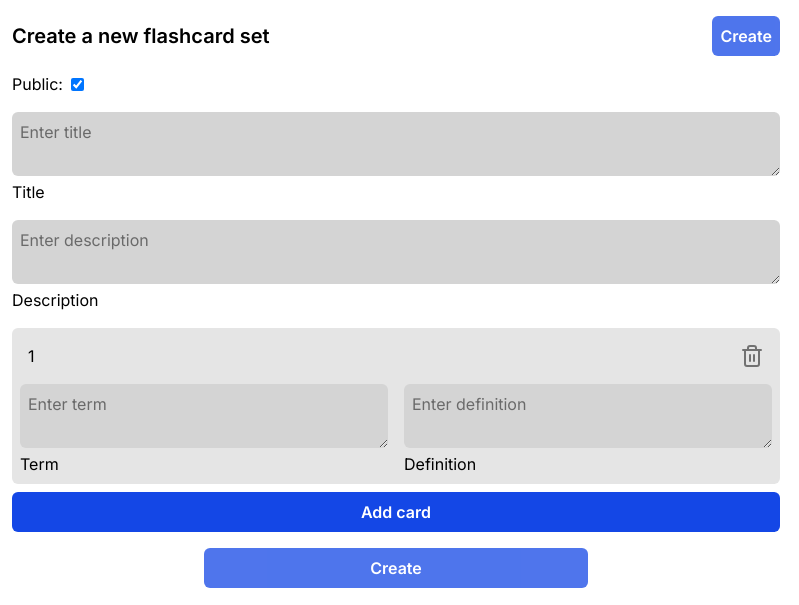
Test case: FlashcardSetForm › enables submit button only when all required fields are filled
Check: the button "Create" in the row of "Create a new flashcard set" is disabled, box x1=712 y1=16 x2=780 y2=56
Check: the 2nd button "Create" is disabled, box x1=204 y1=548 x2=588 y2=588
Type "Spaghetti" into the text box labelled "Title" at [396, 144], box x1=12 y1=112 x2=780 y2=176
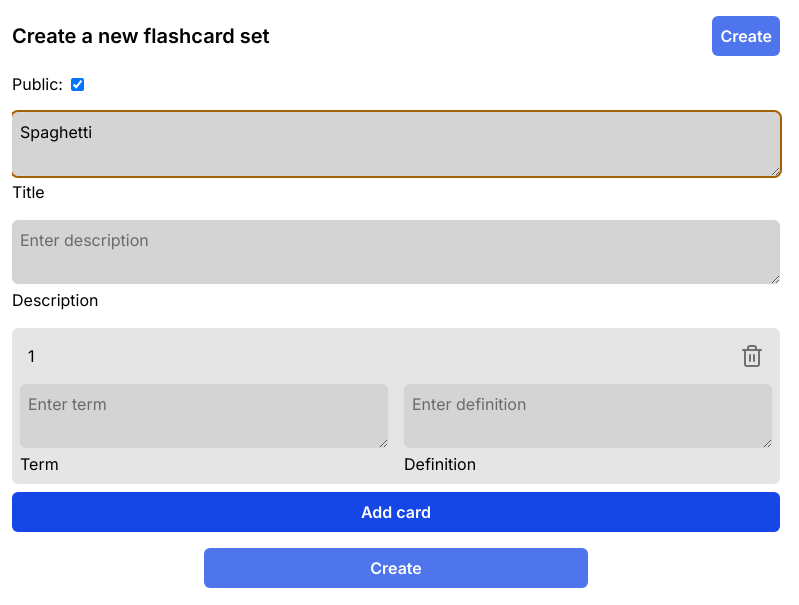
Check: the button "Create" in the row of "Create a new flashcard set" is disabled, box x1=712 y1=16 x2=780 y2=56
Check: the 2nd button "Create" is disabled, box x1=204 y1=548 x2=588 y2=588
Type "My Term" into the text box labelled "Term" at [204, 416], box x1=20 y1=384 x2=388 y2=448
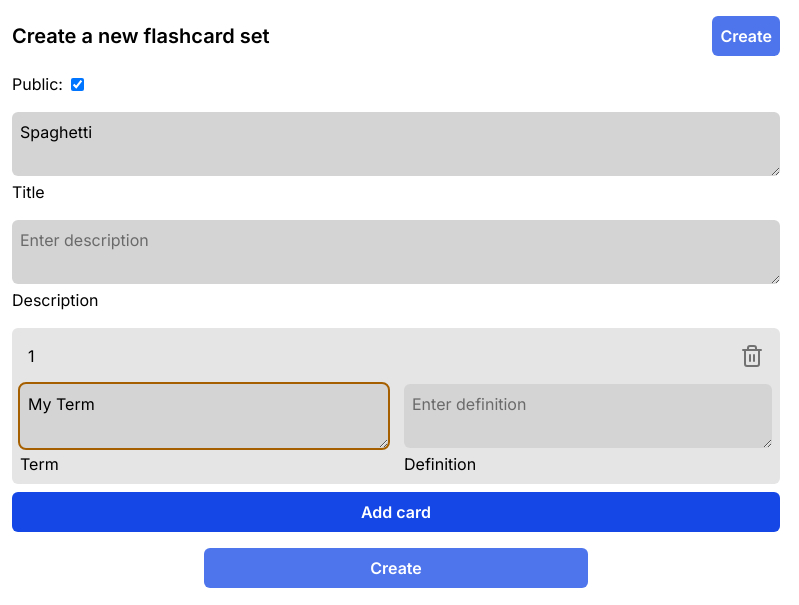
Type "My Definition" into the text box labelled "Definition" at [588, 416], box x1=404 y1=384 x2=772 y2=448
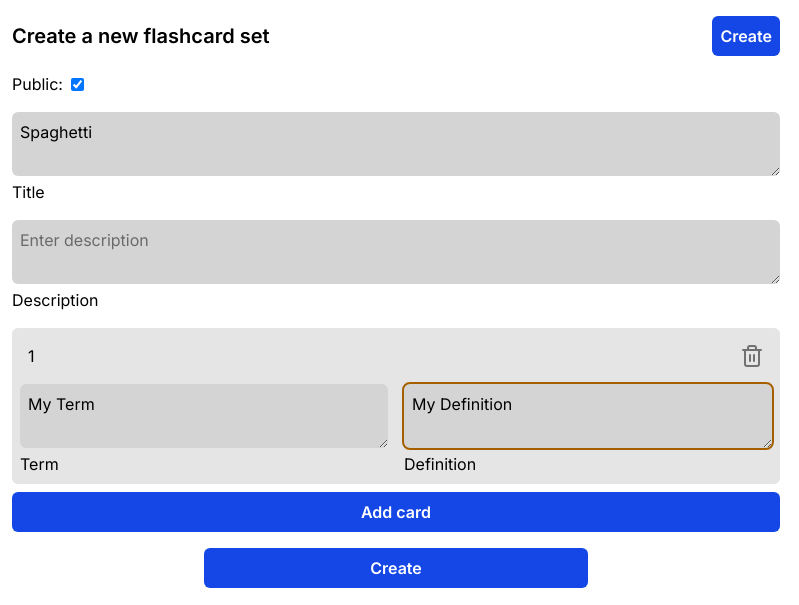
Check: the button "Create" in the row of "Create a new flashcard set" is enabled, box x1=712 y1=16 x2=780 y2=56
Check: the 2nd button "Create" is enabled, box x1=204 y1=548 x2=588 y2=588
